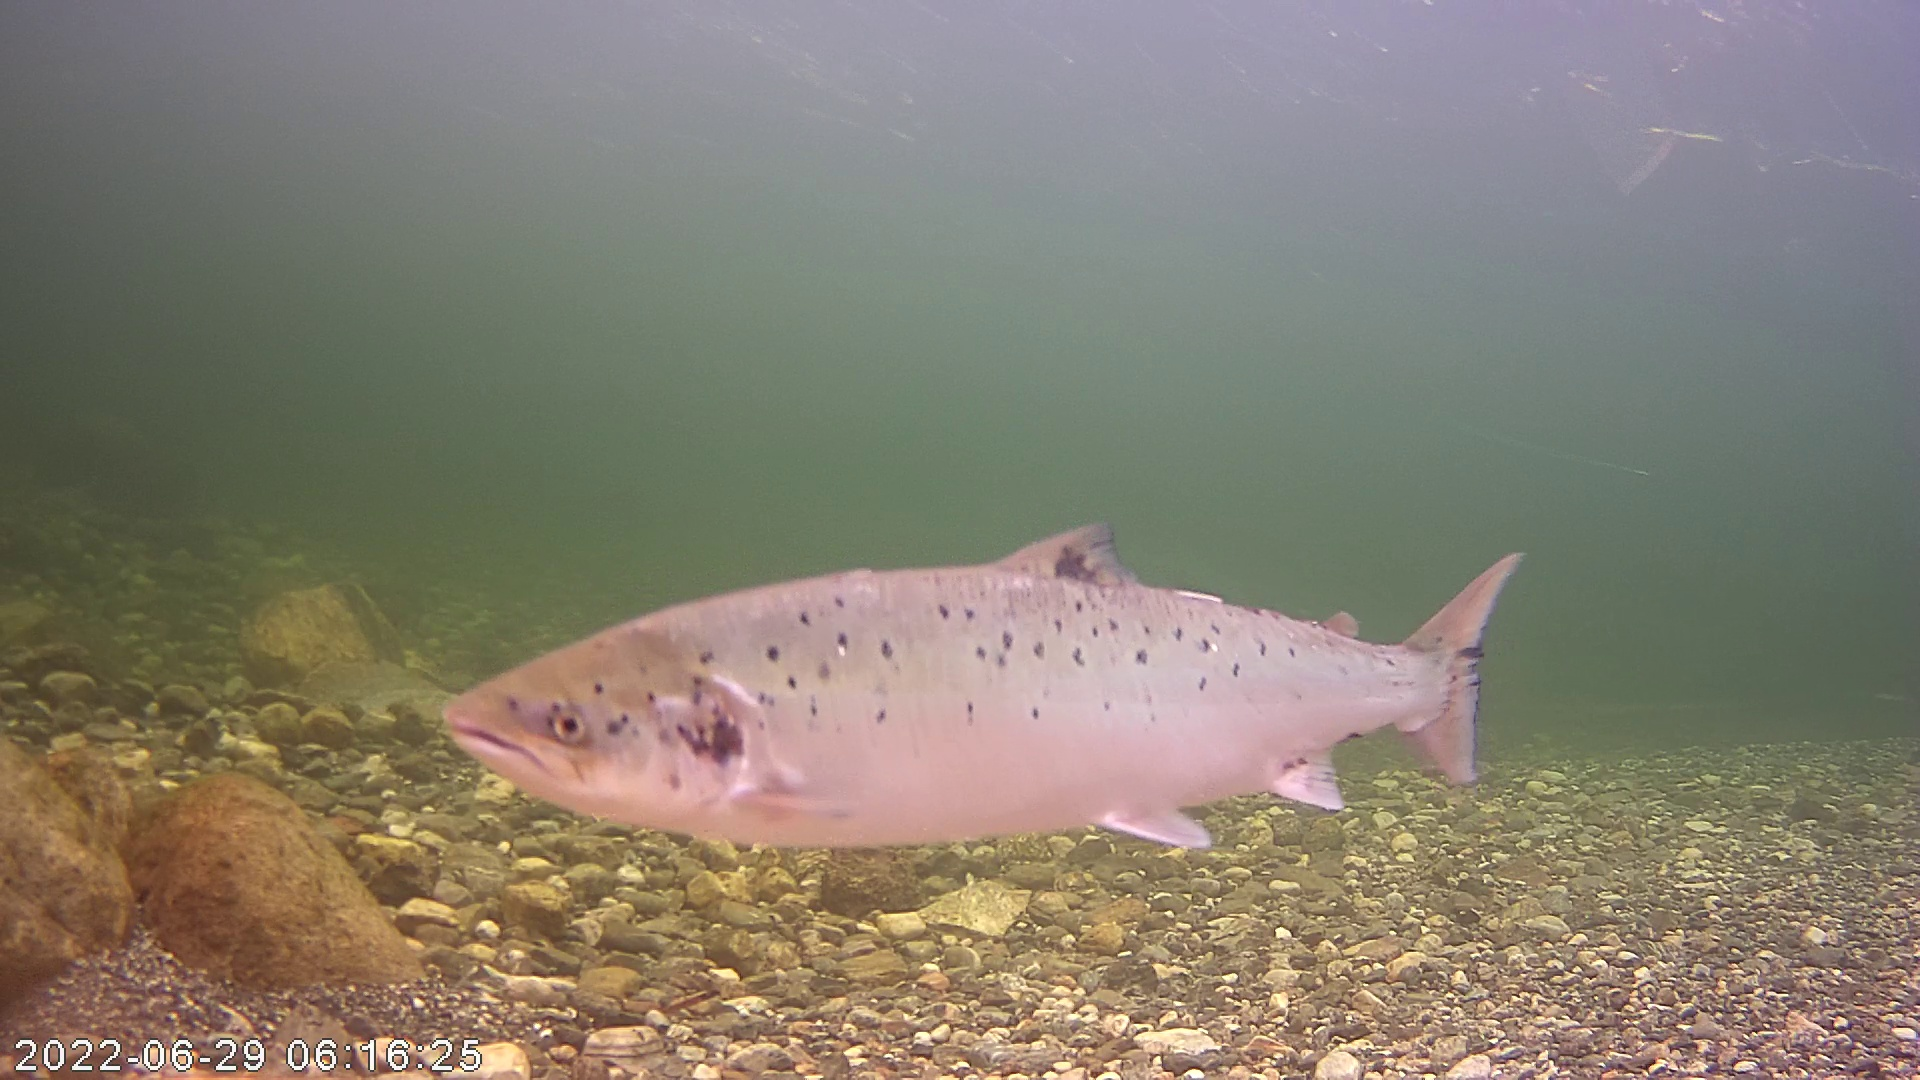salmon: (481, 409, 1518, 858)
